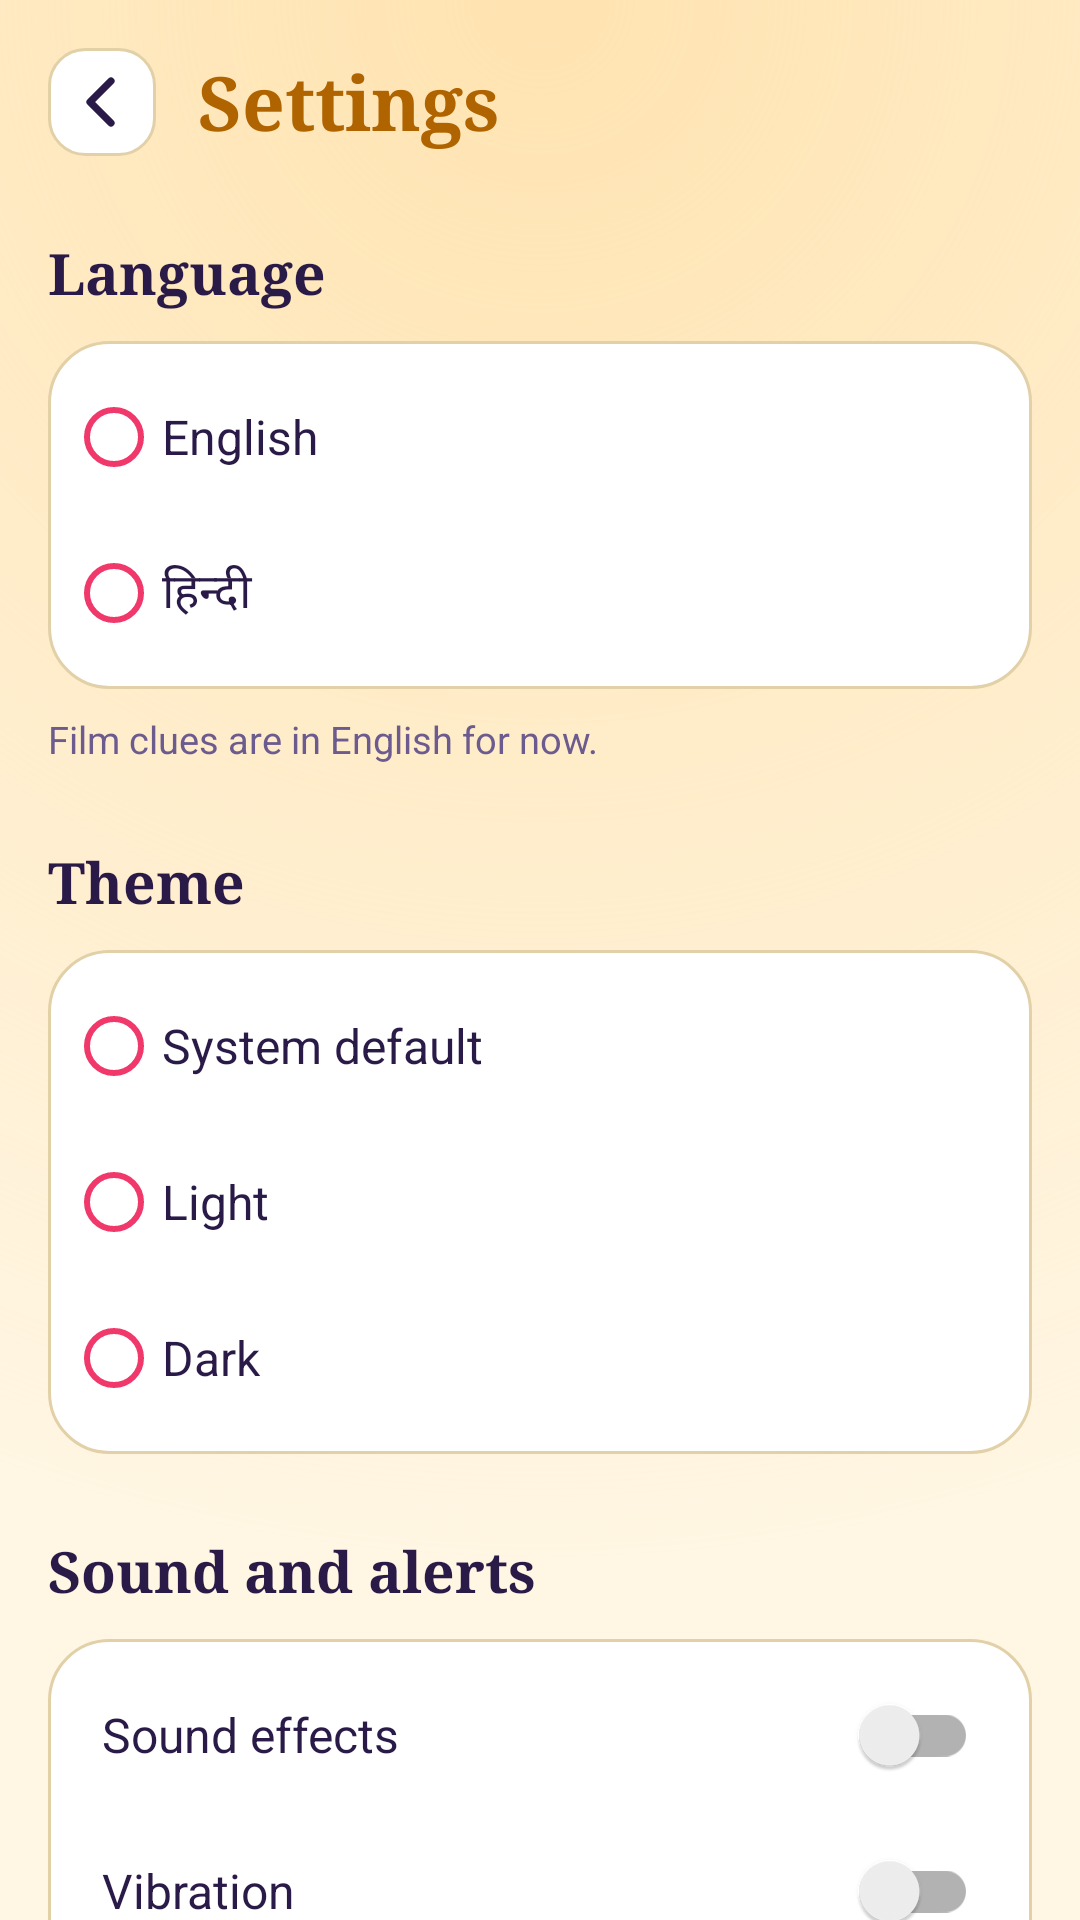

Named icons in this screenshot (1080w x 1920h) and their bounding boxes, bbox=[x1, y1, x2, y2]:
Back: bbox=[48, 48, 156, 156]
